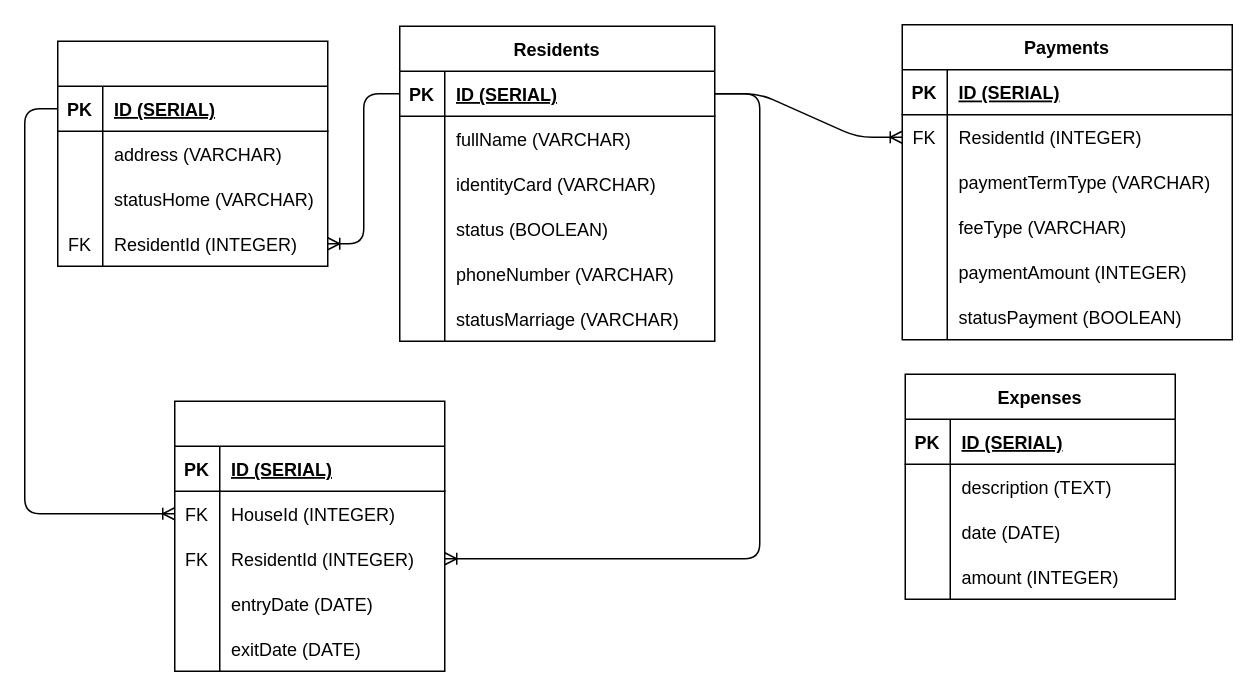
Some shapes in this 1257 by 696 pixel diagram are drawn without their labels. The shapes that lost their labels are listed below. From the top down, each one's box as (x1, y1, x2, y2) in pixels, then its label:
(56, 40, 328, 266): Houses
(173, 400, 445, 671): Residents History
